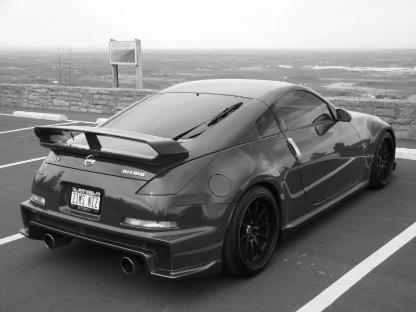license plate: (67, 181, 102, 216)
